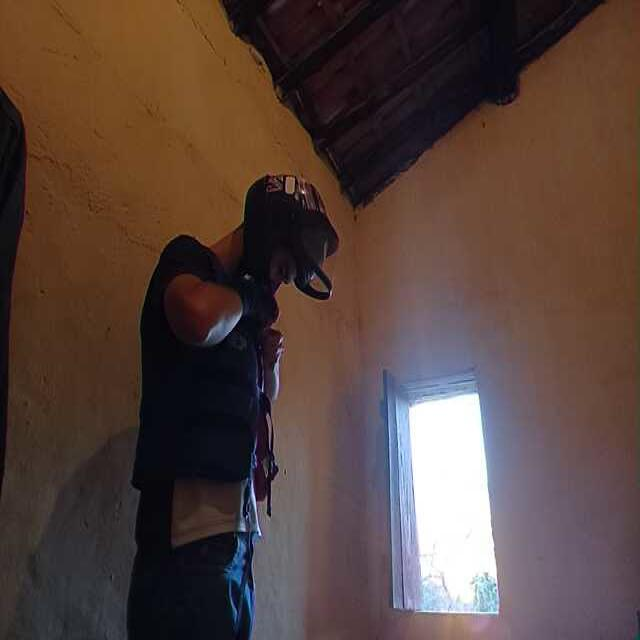capacete: (252, 163, 336, 290)
colete: (147, 241, 278, 496)
pessoa: (141, 196, 306, 640)
